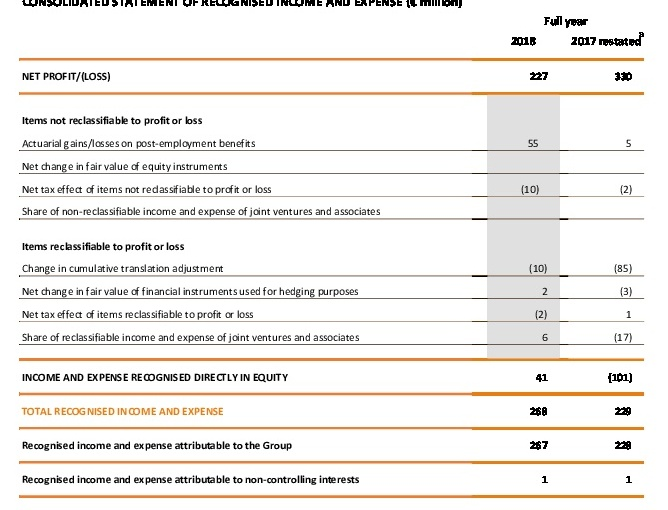table: (0, 0, 668, 510)
